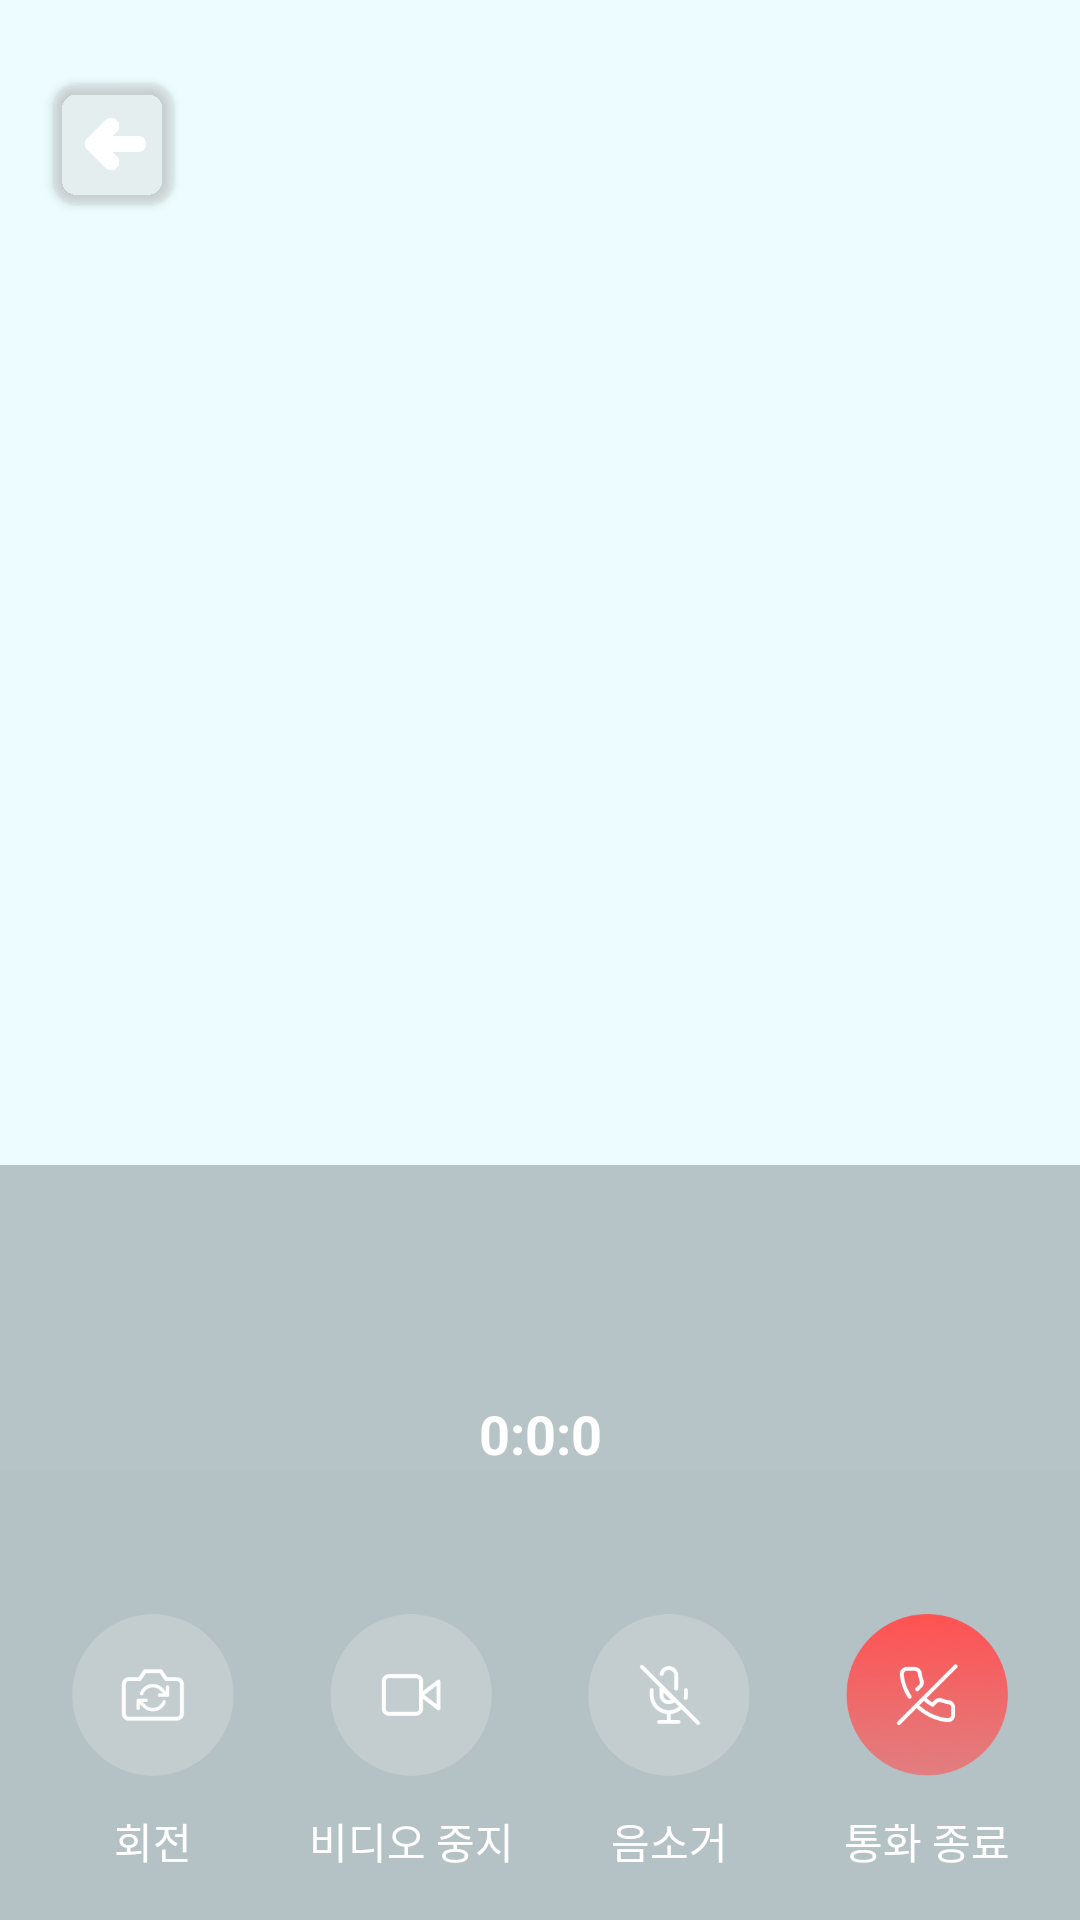

Where to tap for icons on this 1080px x 1920px app screen, as point (x, y):
trans back: point (114, 144)
